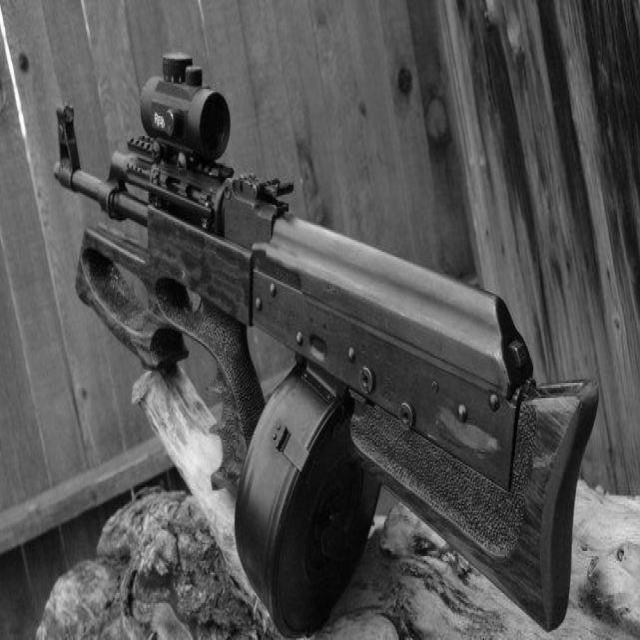gun: (52, 50, 599, 635)
